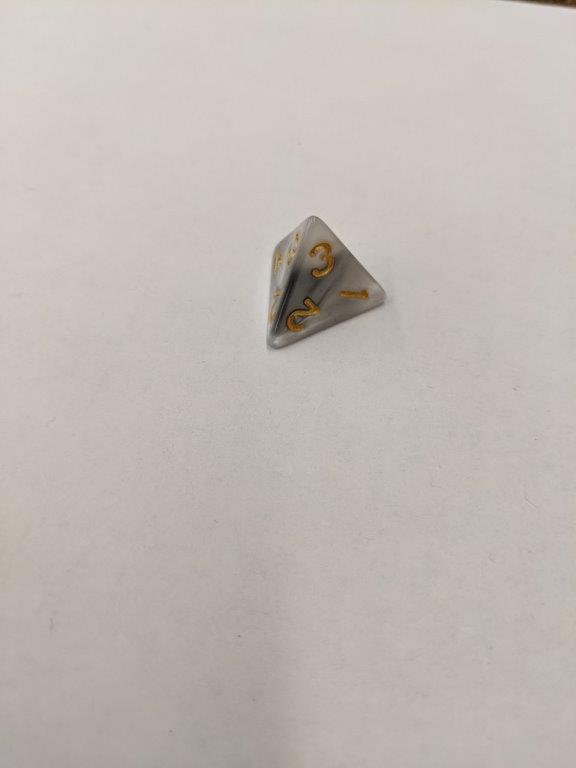d4-3: (261, 213, 390, 351)
